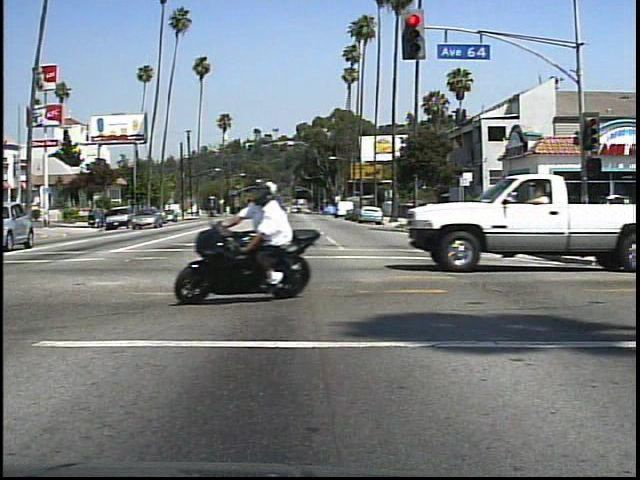person: (236, 177, 312, 295), (543, 192, 572, 245)
